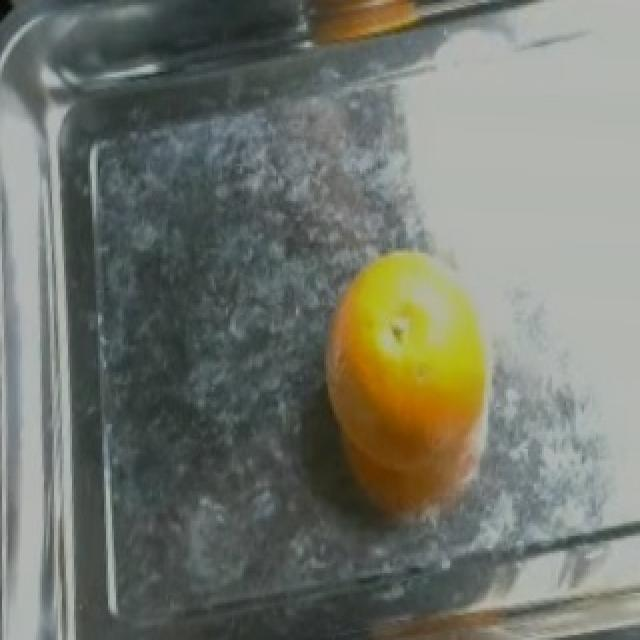Fruit: (310, 226, 514, 558), (240, 0, 442, 69)
